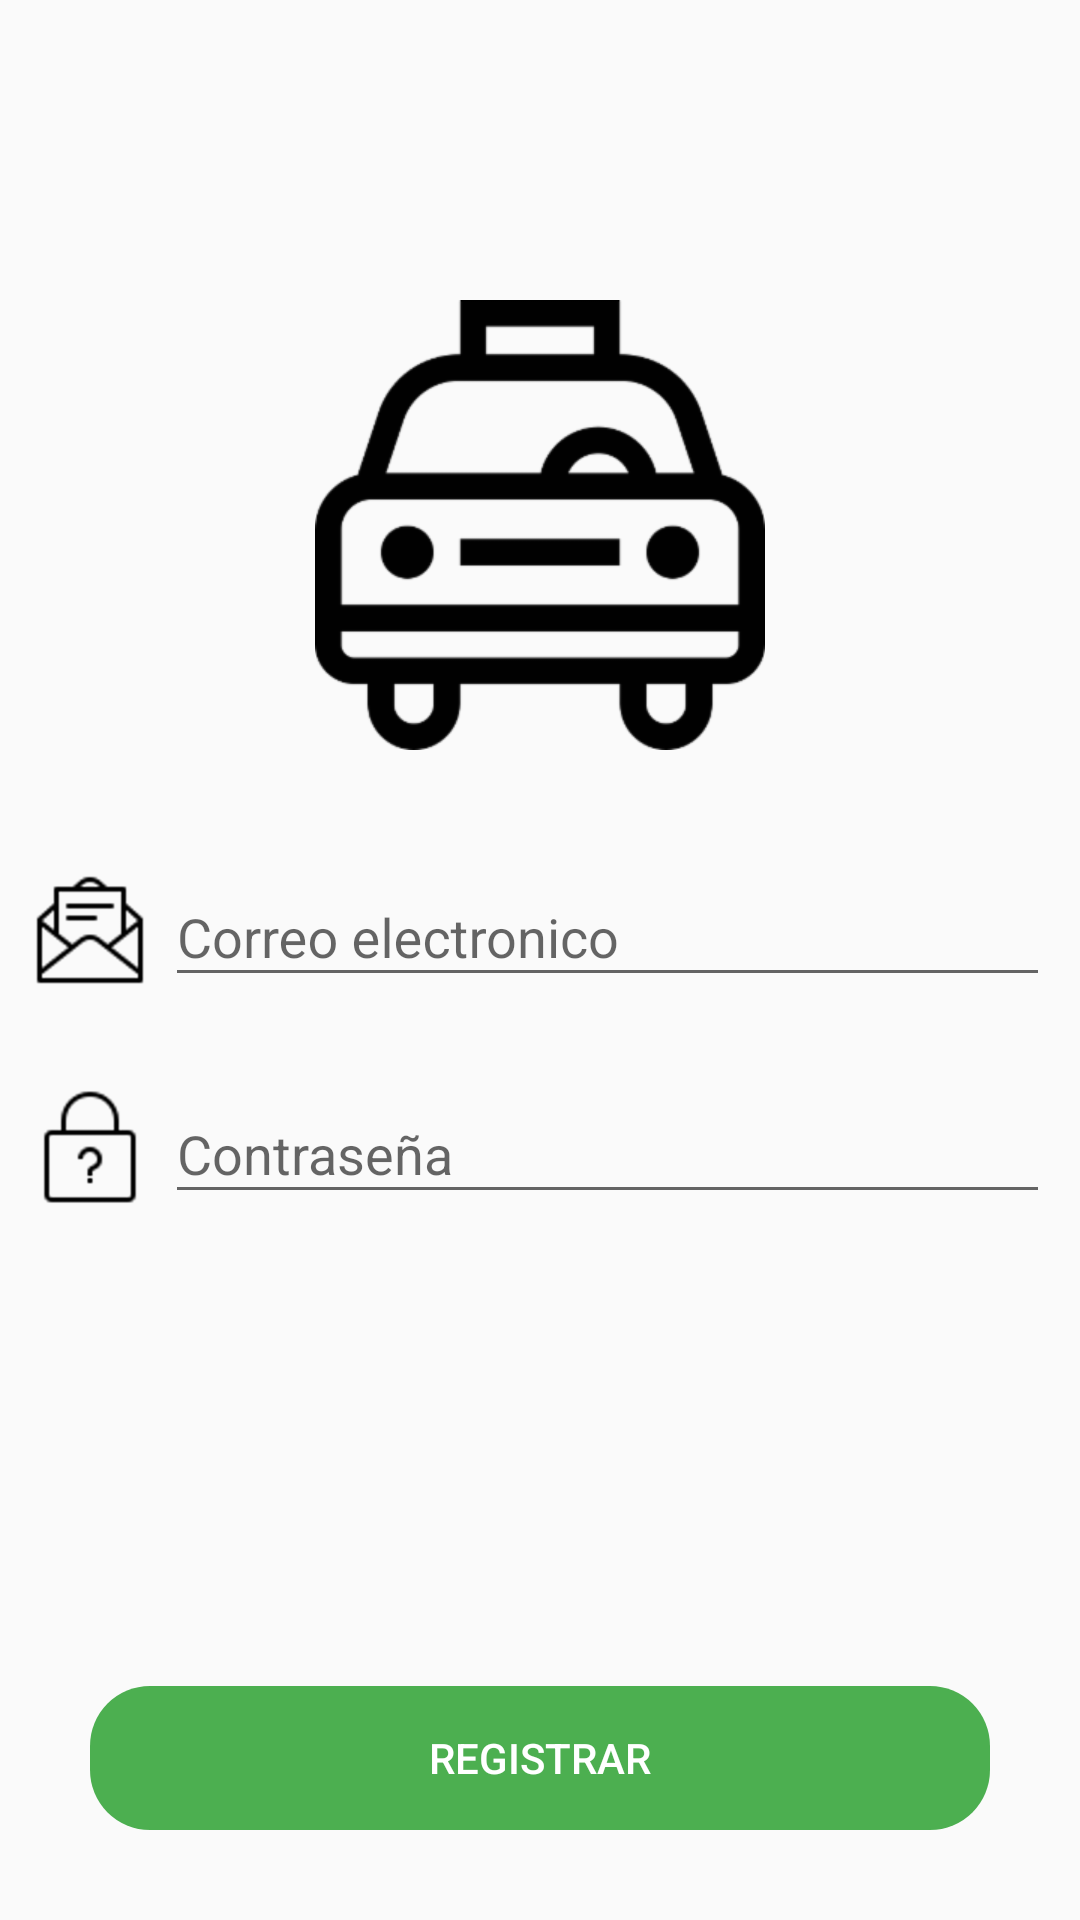

Where icons sit on this 1080x1920 app screen, as rect(x1, y1, x2, y2):
email: rect(36, 876, 144, 984)
password: rect(43, 1091, 137, 1203)
